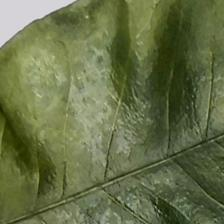healthy: (0, 8, 224, 224)
